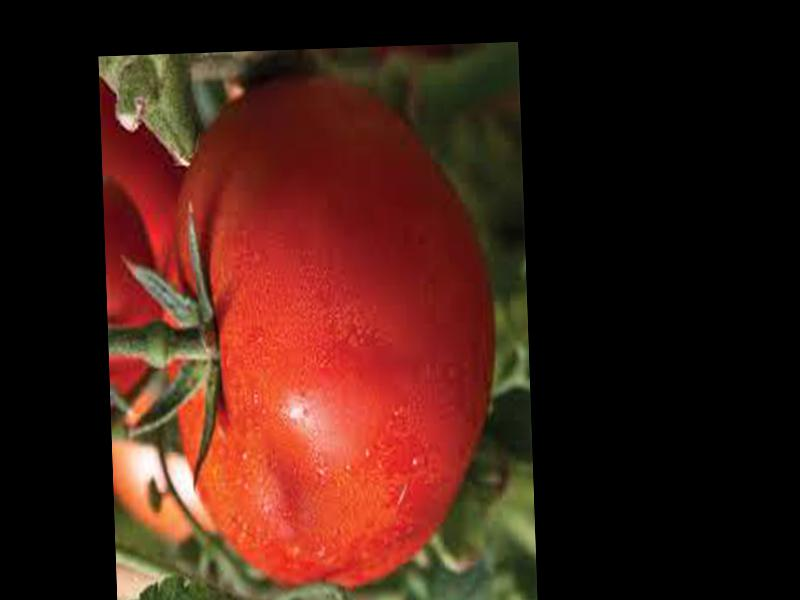Tomato: (157, 73, 499, 592)
